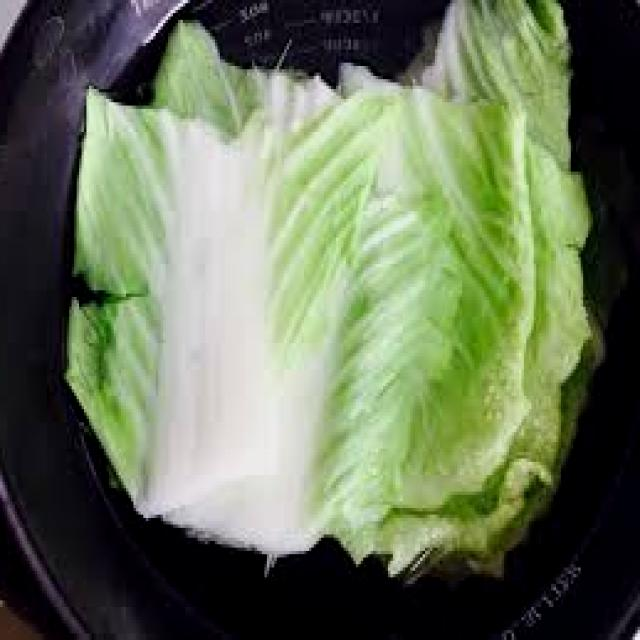organic: (284, 85, 526, 391), (460, 1, 568, 81)
